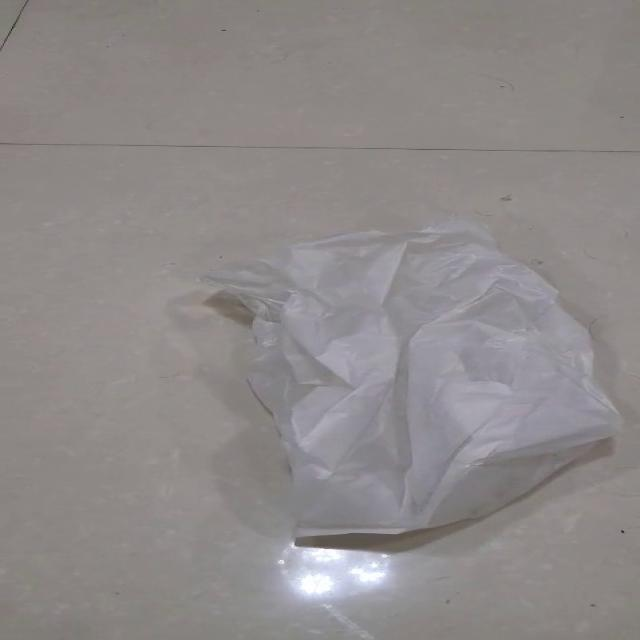plastic: (197, 218, 624, 542)
